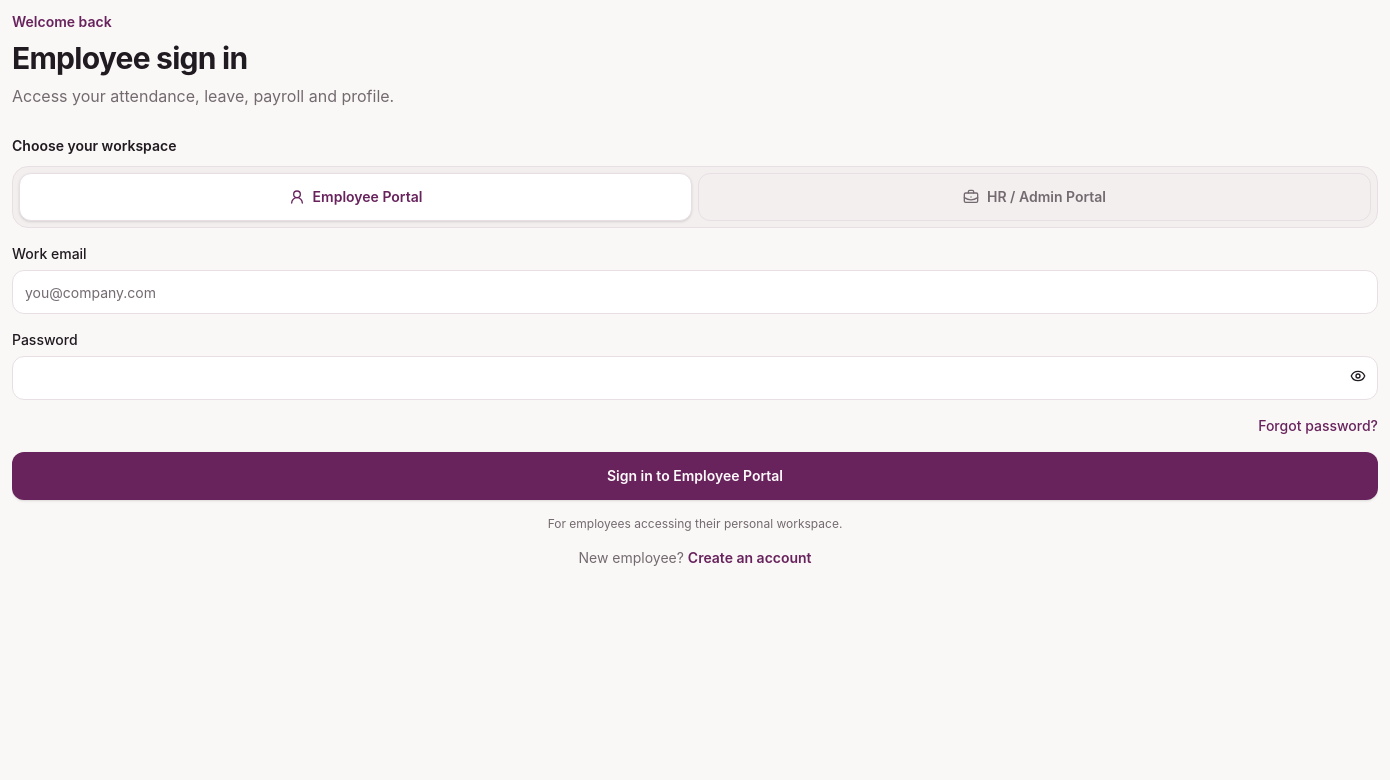
LoginForm portal experience › updates the copy and harmless URL preference when HR / Admin Portal is selected
Click the tab "HR / Admin Portal".
click(1034, 197)  # box 698,173 -> 1371,221
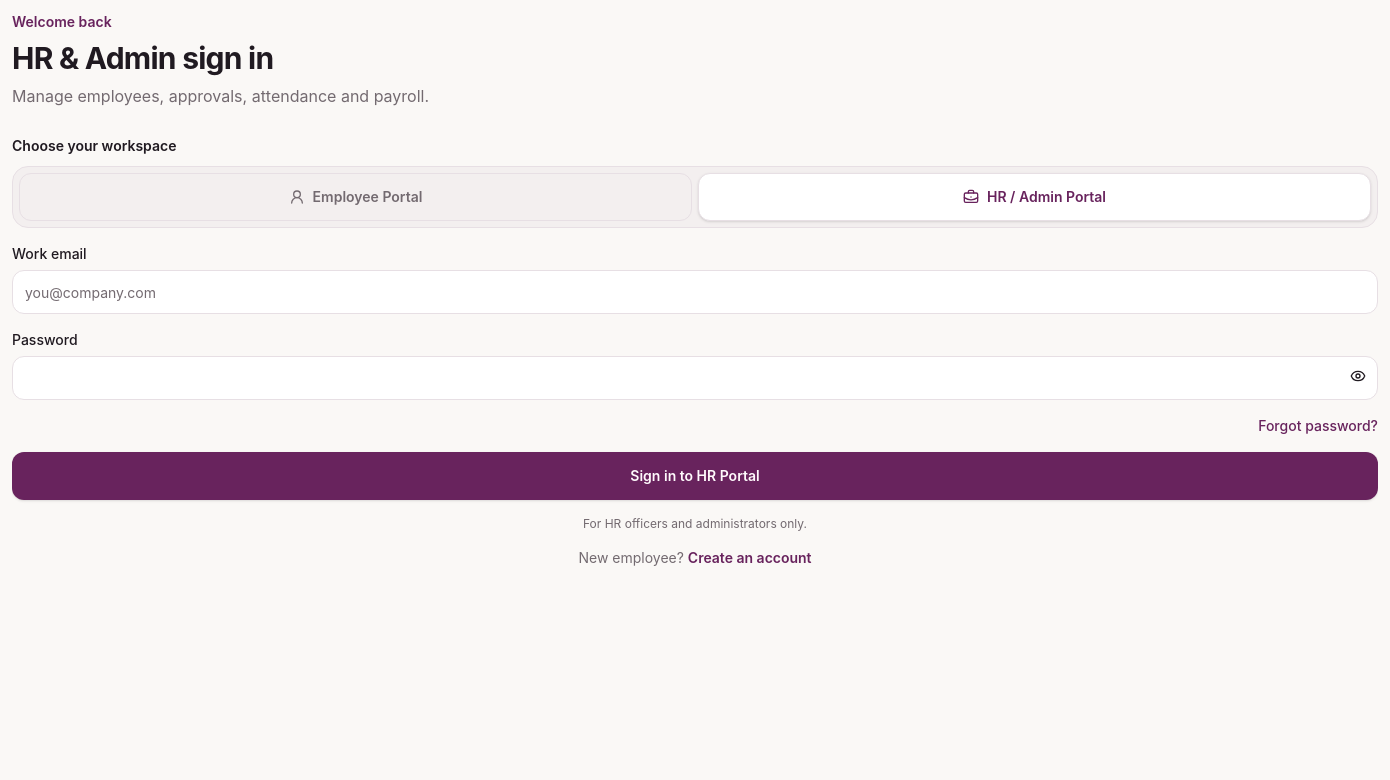
Now the heading "HR & Admin sign in" is shown, box 12,40 -> 273,76
Now the text "Manage employees, approvals, attendance and payroll." is shown, box 12,86 -> 429,106
Now the button "Sign in to HR Portal" is shown, box 12,452 -> 1378,500
